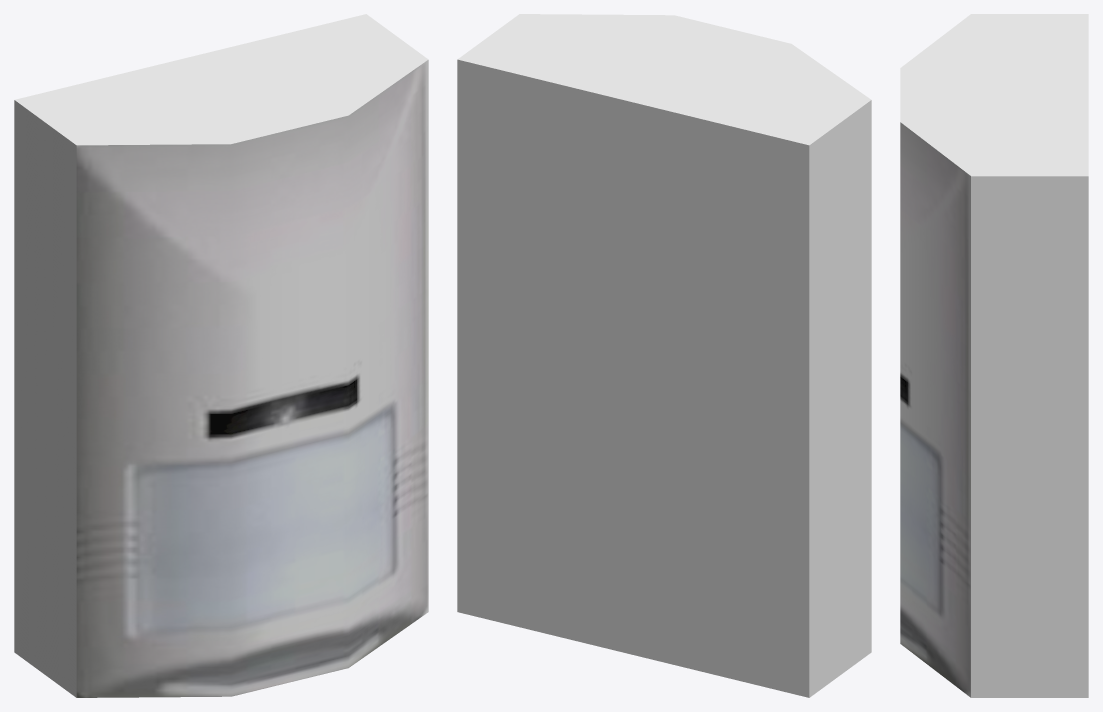
File: 双鉴探测器.obj
3 renders of one model, left to right at view 1: azimuth 30°, elevation 25°; view 2: azimuth 150°, elevation 25°; view 3: azimuth 270°, elevation 25°, orthographic. The views are drawn at different scales.
Visible parts, largest first — view 1: Box096; view 2: Box096; view 3: Box096.
Boxes of the visible parts, bbox=[...] form: Box096: bbox=[14, 14, 428, 697]; Box096: bbox=[457, 14, 871, 697]; Box096: bbox=[900, 14, 1088, 697].
Bounding box in the file's own units: 8 × 12 × 3.92.
